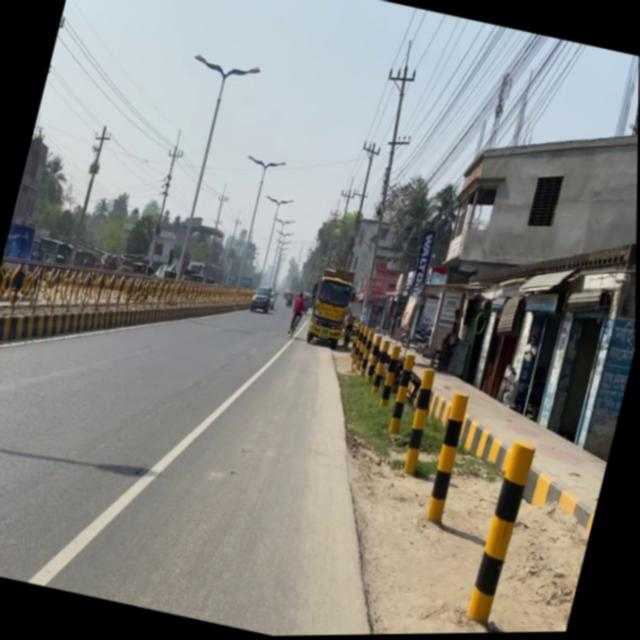Bench: (301, 332, 568, 636)
Construction-barrier: (254, 341, 450, 637)
Fallen-tree: (288, 310, 304, 337)
Garbage-bin: (436, 322, 463, 375), (287, 291, 308, 336)
Pole: (0, 243, 224, 395)
Pothole: (379, 356, 622, 538)
Traffic-cone: (302, 262, 362, 351)
